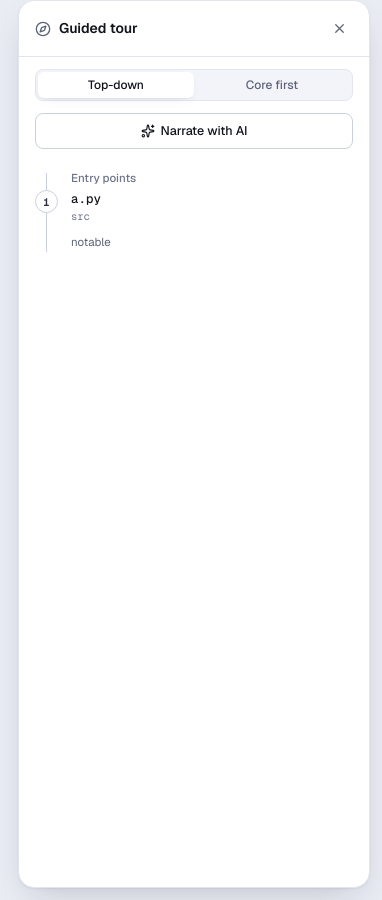
Test: GuidedTour › a graceful AI failure keeps the deterministic stops and shows an inline notice
Click the button "Narrate with AI".
click(194, 131)  # box [35,113,353,149]
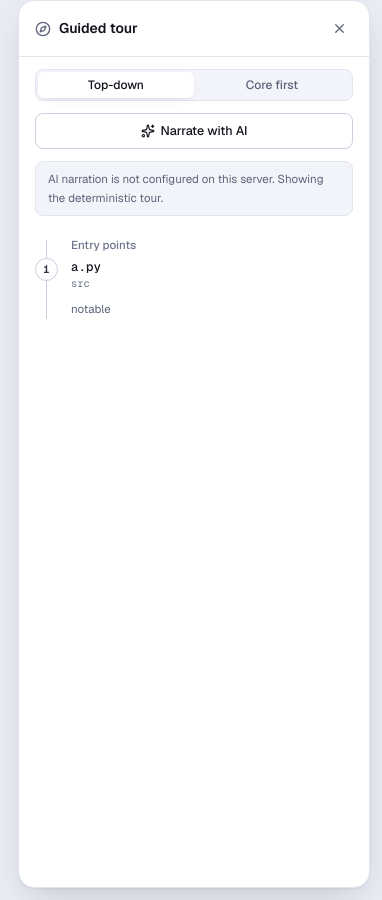
Expected: the text "a.py" is shown, [71,258,101,275]
Now the message shows "not configured on this server", box [48,171,275,186]
